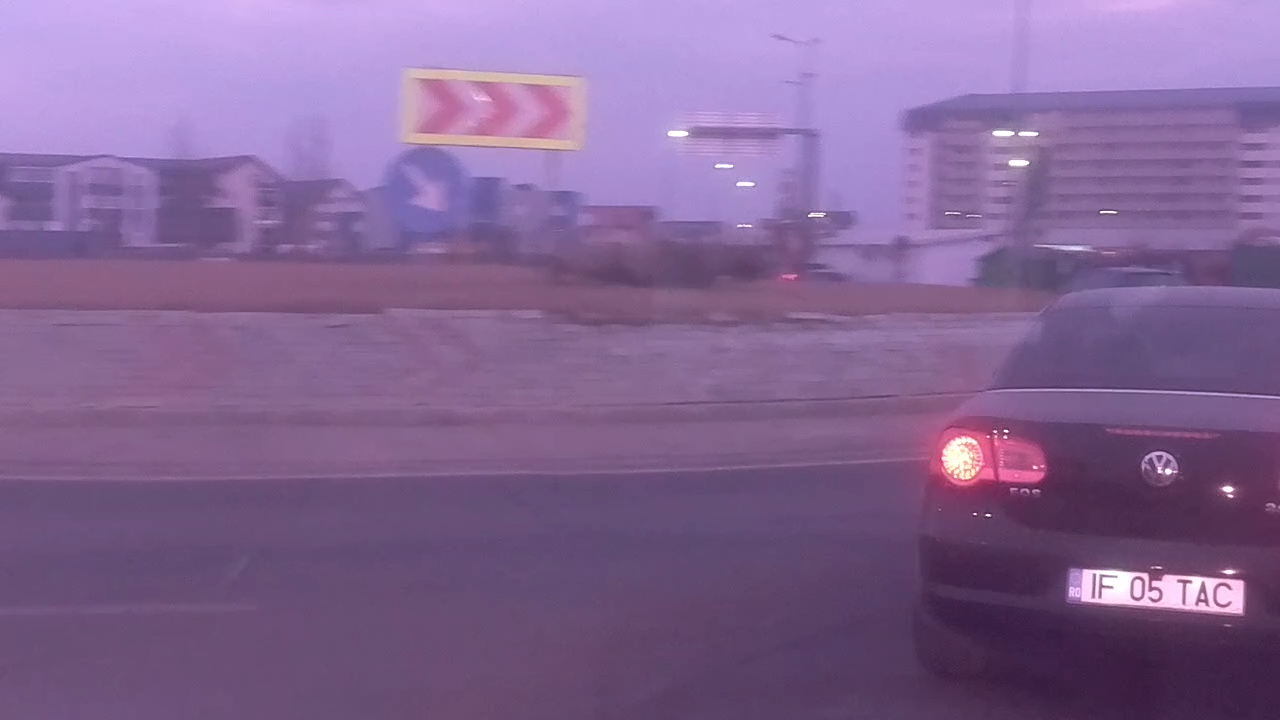license-plate: (1061, 561, 1251, 619)
